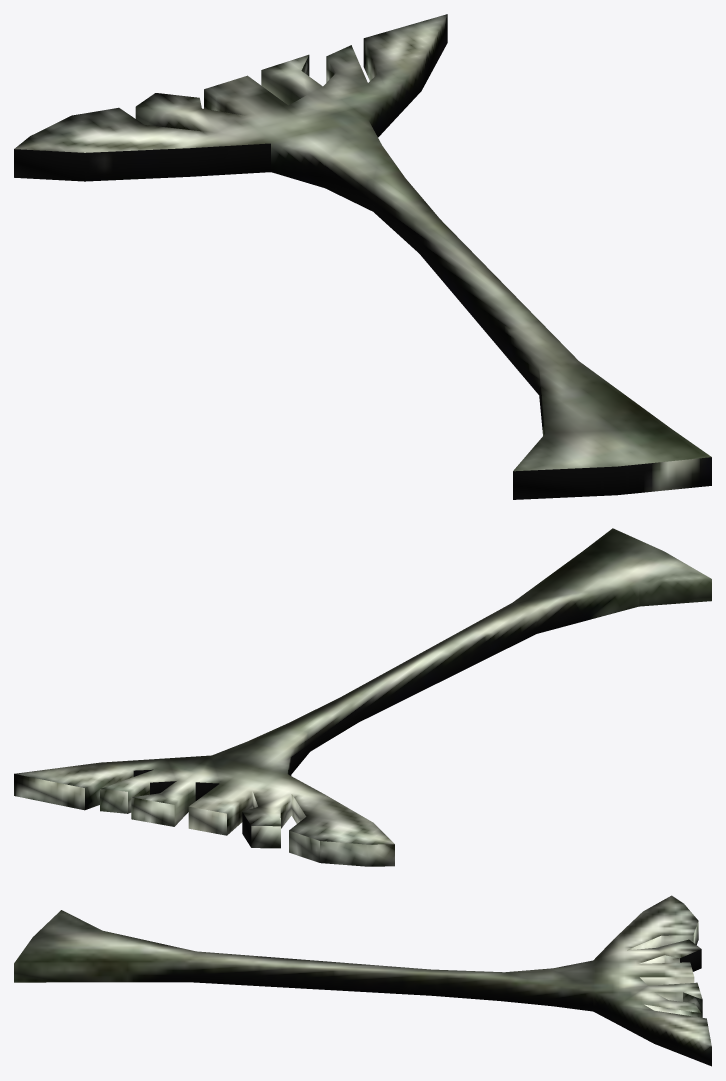
File: lychen-segment-trumpet.fbx
3 views of the same model, one above another, from view 1: azimuth 30°, elevation 25°; view 2: azimuth 150°, elevation 25°; view 3: azimuth 270°, elevation 25° (orthographic). The views are drawn at different scales.
Visible parts, largest first — view 1: lychen_segment_trumpet; view 2: lychen_segment_trumpet; view 3: lychen_segment_trumpet.
Part boxes in pixels (x1=…): lychen_segment_trumpet: x1=14, y1=14, x2=711, y2=499; lychen_segment_trumpet: x1=14, y1=528, x2=711, y2=866; lychen_segment_trumpet: x1=14, y1=895, x2=711, y2=1066.
Size of the model in its own units: 6.28 by 0.3712 by 12.2.
